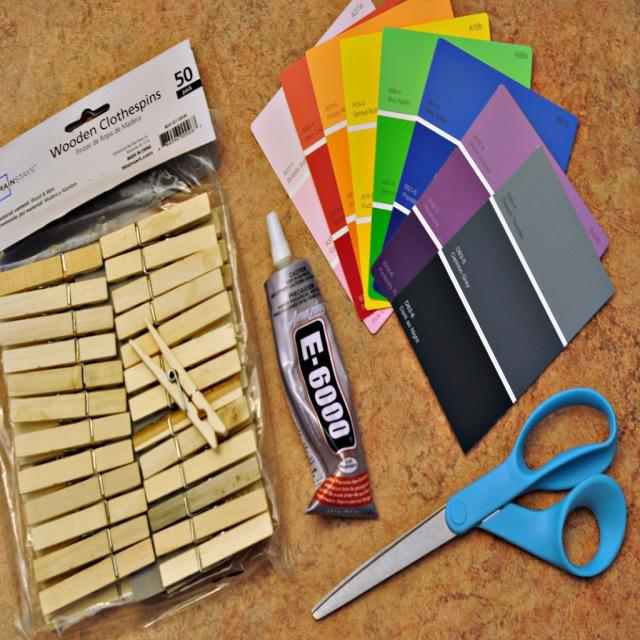scissors: (310, 386, 627, 621)
